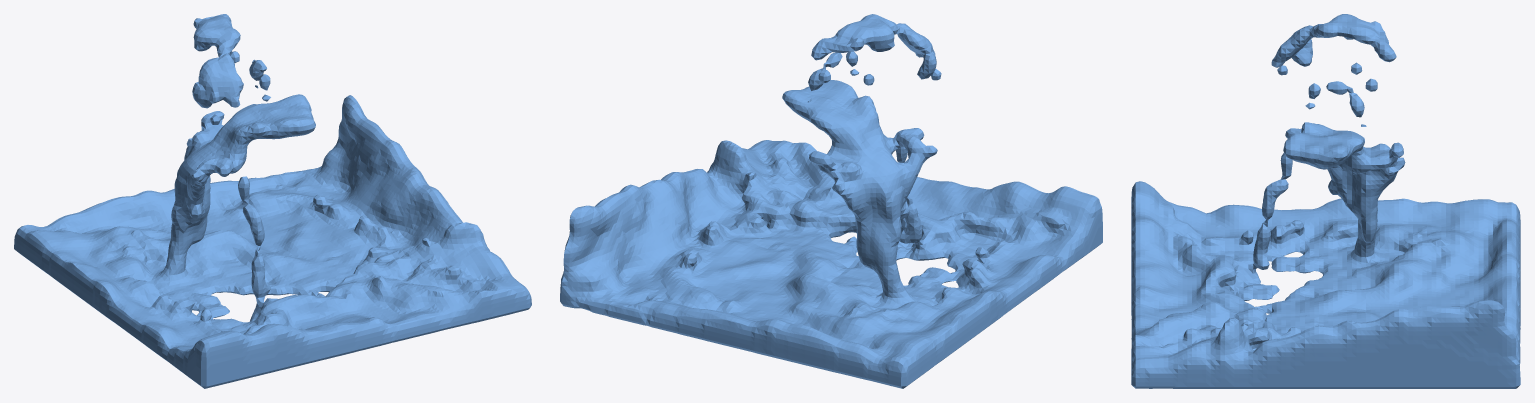
File: water_0100.glb
3 renders of one model, left to right at view 1: azimuth 30°, elevation 25°; view 2: azimuth 150°, elevation 25°; view 3: azimuth 270°, elevation 25°, orthographic. The views are drawn at different scales.
Parts seen in each view (by area): view 1: Water_0100; view 2: Water_0100; view 3: Water_0100.
Part boxes in pixels (bbox=[...]): Water_0100: bbox=[14, 14, 531, 388]; Water_0100: bbox=[560, 14, 1102, 388]; Water_0100: bbox=[1131, 14, 1520, 388].
Bounding box in the file's own units: 4.83 × 3.62 × 4.83.
